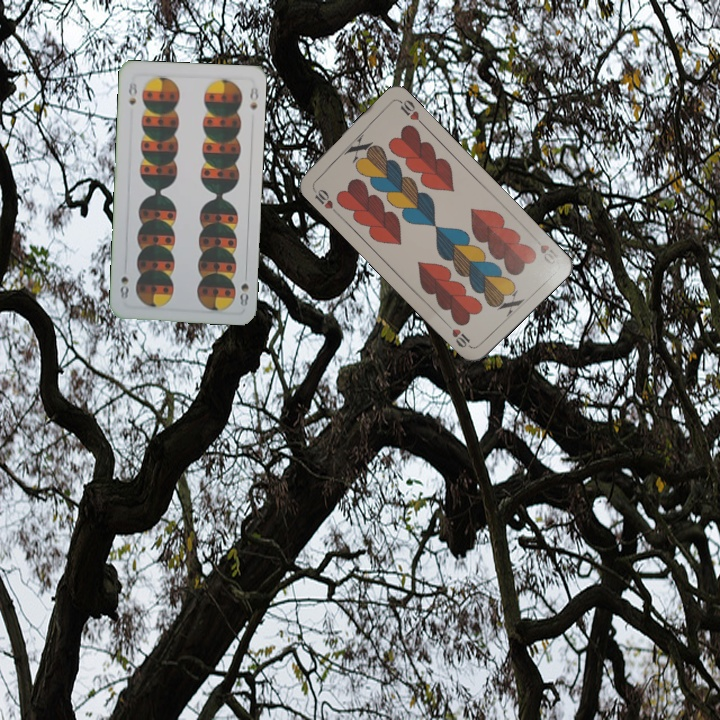H10: (528, 232, 562, 268), (308, 183, 340, 216)
S8: (236, 268, 251, 308), (125, 77, 140, 108)
